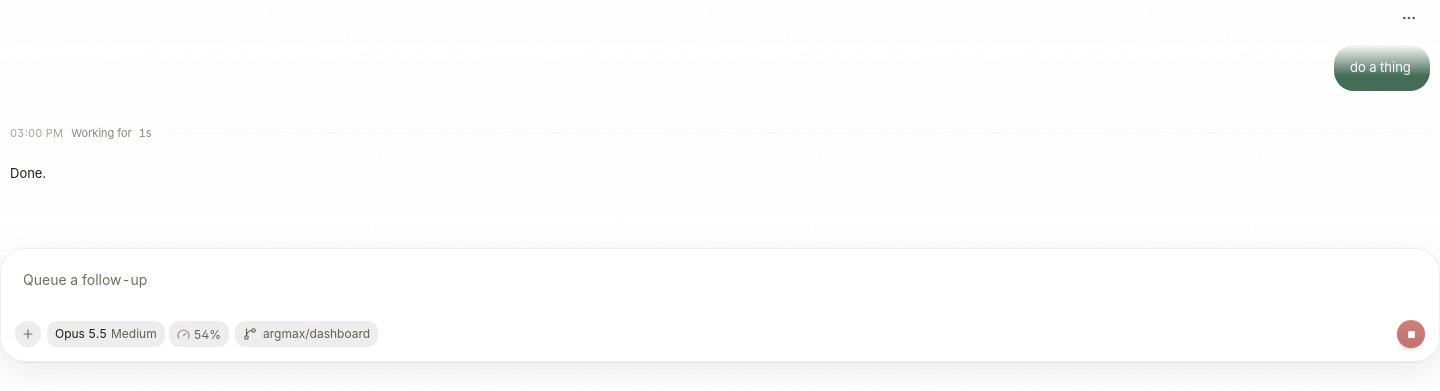
Test case: SessionConversation — streaming & composer › shows Thinking for a follow-up queued mid-turn, skipping the post-answer grace period
Type "then run lint" into the text box named "Chat prompt" at {"x": 720, "y": 287}, box [15,261,1425,313]
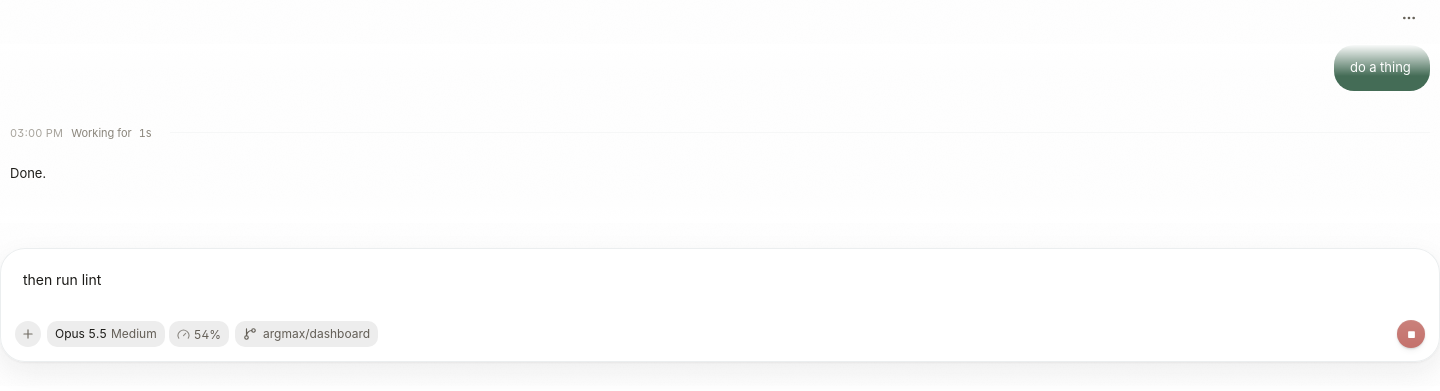
Press Enter in the text box named "Chat prompt", box [15,261,1425,313]
Wait 600 ms
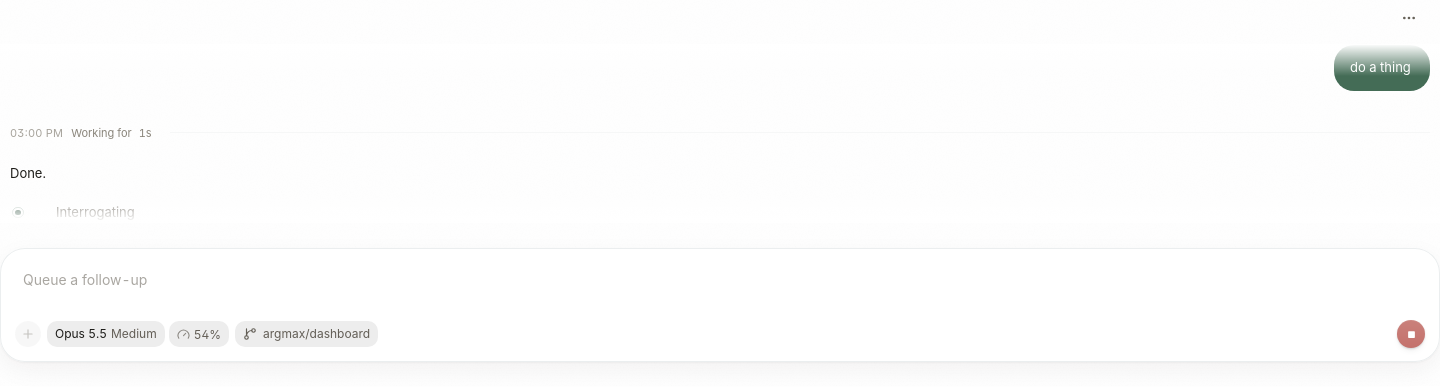
Expected: the element named "Thinking" is shown, [12,204,135,220]
